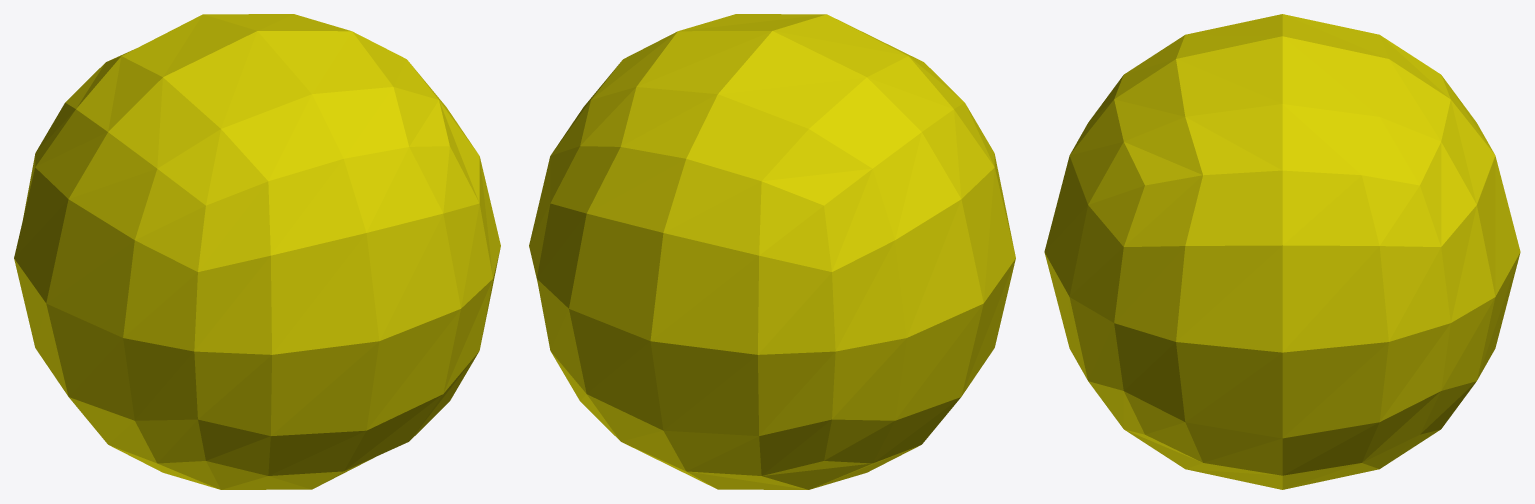
The model's file is peroxisome.fbx.
3 views of the same model, side by side, from view 1: azimuth 30°, elevation 25°; view 2: azimuth 150°, elevation 25°; view 3: azimuth 270°, elevation 25° (orthographic). The views are drawn at different scales.
Parts seen in each view (by area): view 1: Box001; view 2: Box001; view 3: Box001.
Part boxes in pixels (x1=…): Box001: x1=14, y1=14, x2=500, y2=489; Box001: x1=529, y1=14, x2=1015, y2=489; Box001: x1=1044, y1=14, x2=1520, y2=489.
Bounding box in the file's own units: 8 × 8 × 8.
